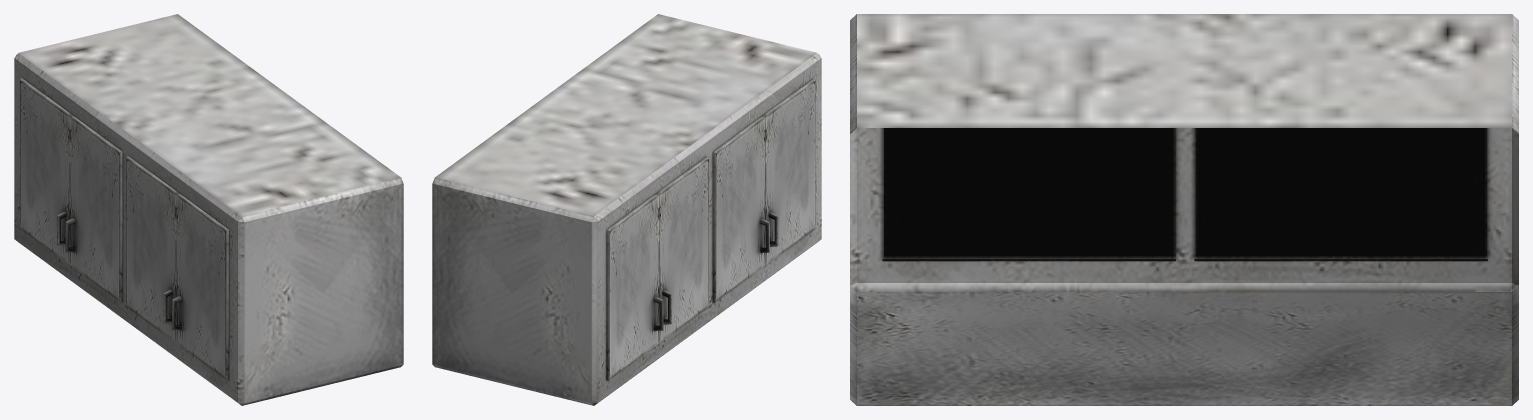
Rendered from plantravaiUpl.fbx.
The picture shows the model from 3 angles, left to right: view 1: azimuth 30°, elevation 25°; view 2: azimuth 150°, elevation 25°; view 3: azimuth 270°, elevation 25°; orthographic projection. The views are drawn at different scales.
Visible parts, largest first — view 1: polySurface774; view 2: polySurface774; view 3: polySurface774.
Boxes of the visible parts, <box> form: polySurface774: <box>14,14,403,405</box>; polySurface774: <box>432,14,821,405</box>; polySurface774: <box>850,14,1518,405</box>.
Size of the model in its own units: 83.53 by 86.89 by 189.
